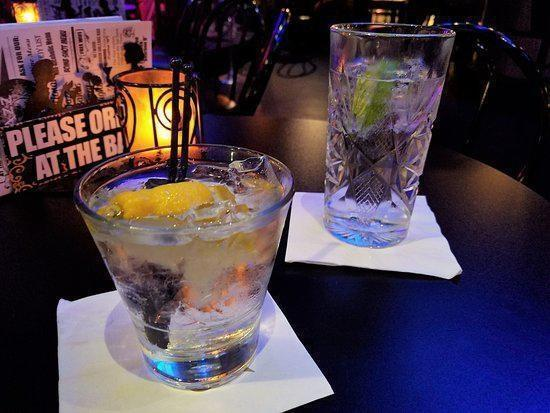glass-normal: (72, 141, 296, 388), (321, 21, 456, 248)
